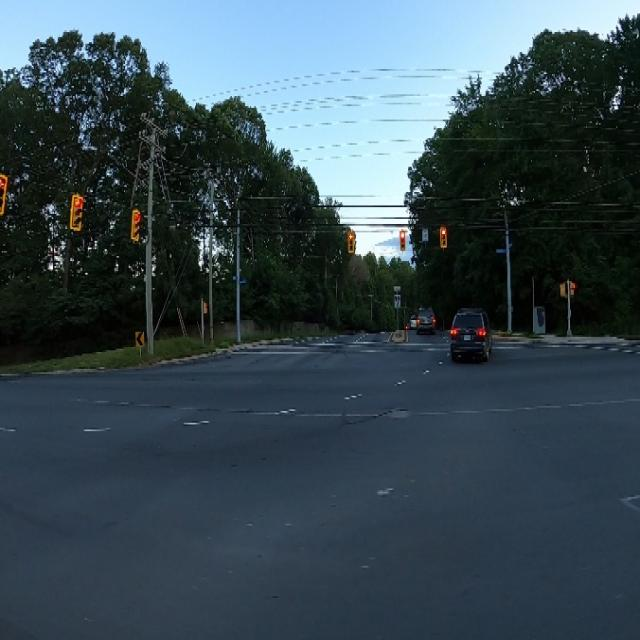car: (448, 290, 490, 379), (408, 297, 440, 339)
